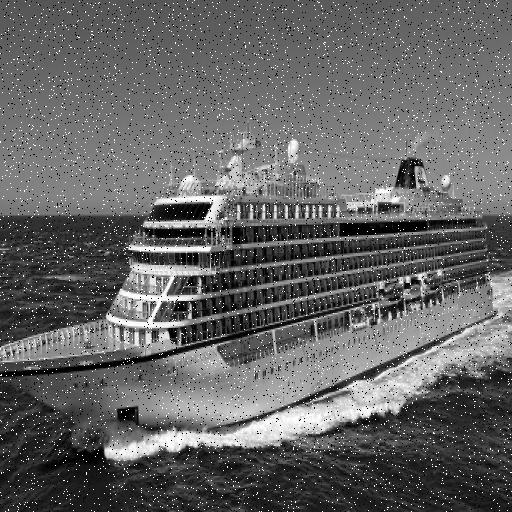cruises: (1, 125, 506, 450)
